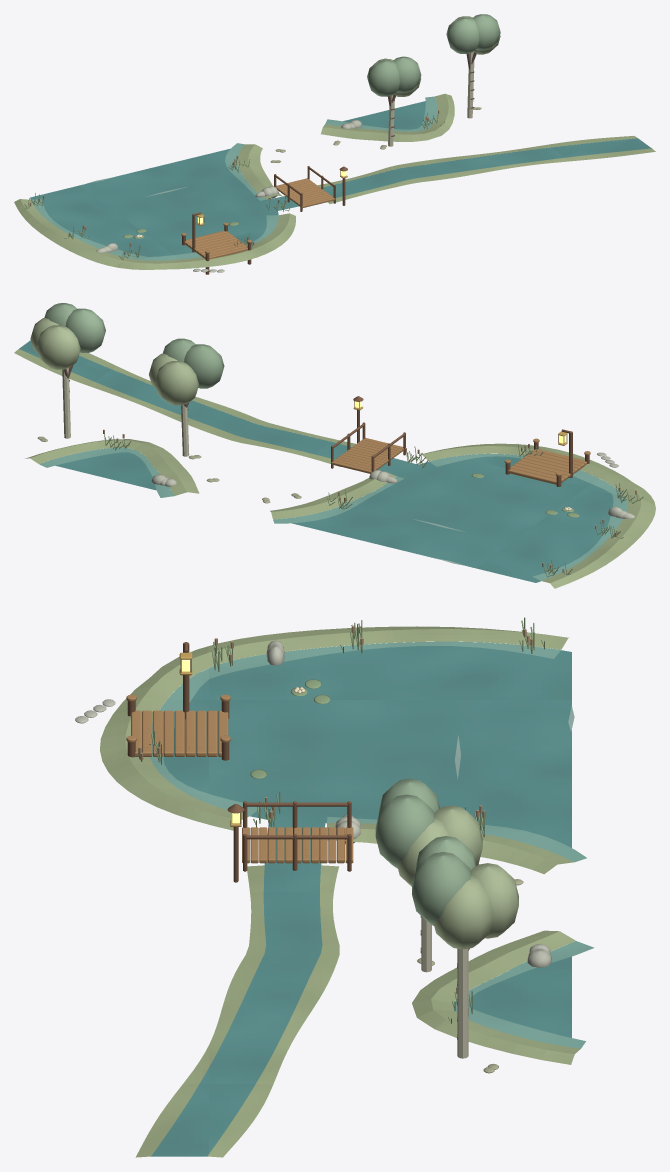
Rendered from village-pond.glb.
3 renders of one model, top to bottom at view 1: azimuth 30°, elevation 25°; view 2: azimuth 150°, elevation 25°; view 3: azimuth 270°, elevation 25°, orthographic. The views are drawn at different scales.
Visible parts, largest first — view 1: Forest hamlet; view 2: Forest hamlet; view 3: Forest hamlet.
Boxes of the visible parts, x1,y1,x2,y2 form: Forest hamlet: (14,14,655,274); Forest hamlet: (14,303,655,588); Forest hamlet: (75,617,594,1157).
Bounding box in the file's own units: 27.72 × 5.63 × 11.45.
17 materials, 17 textured.
